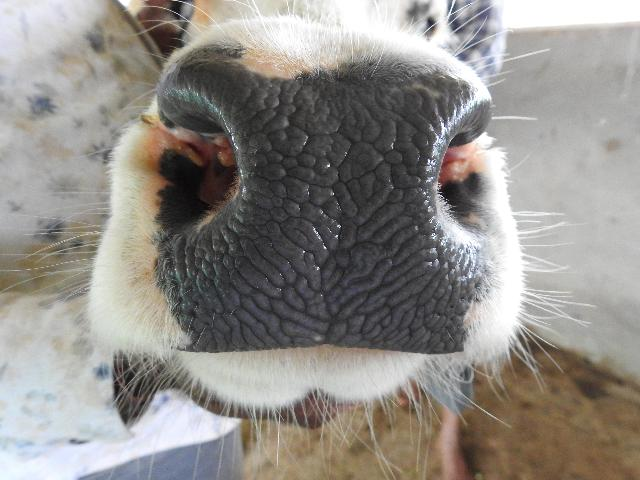Muzzle: (212, 77, 440, 347)
